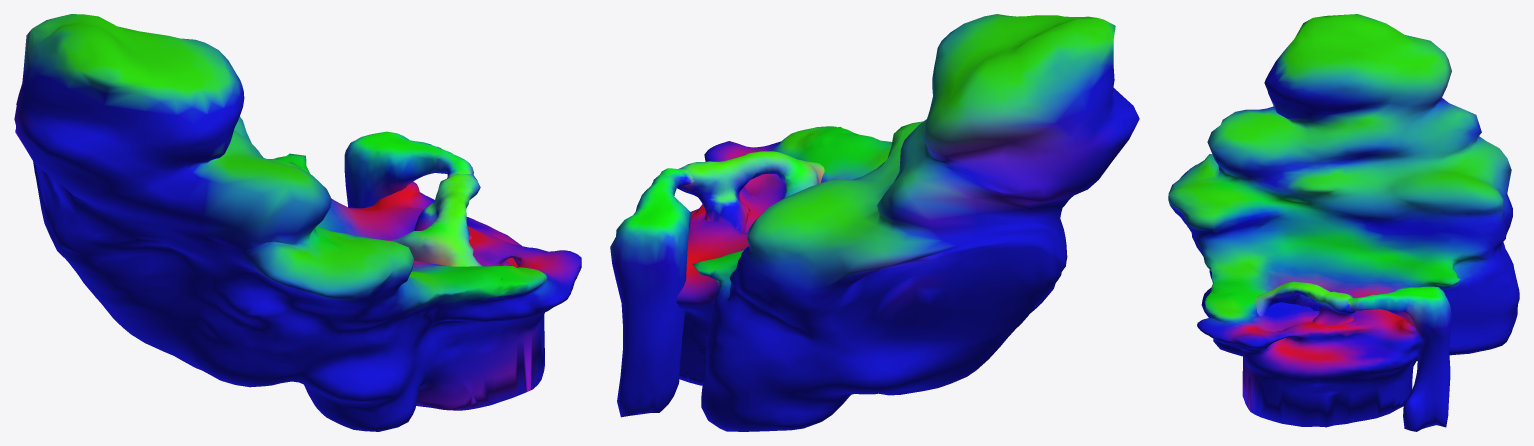
3 views of the same model, side by side, from view 1: azimuth 30°, elevation 25°; view 2: azimuth 150°, elevation 25°; view 3: azimuth 270°, elevation 25° (orthographic). The views are drawn at different scales.
Visible parts, largest first — view 1: Cube, Cube.001, Cube.002; view 2: Cube, Cube.001, Cube.002; view 3: Cube, Cube.001, Cube.002.
Boxes of the visible parts, bbox=[...] form: Cube: bbox=[14, 14, 581, 431]; Cube.001: bbox=[344, 131, 473, 208]; Cube.002: bbox=[386, 174, 482, 266]; Cube: bbox=[676, 14, 1139, 431]; Cube.001: bbox=[610, 168, 694, 417]; Cube.002: bbox=[677, 151, 824, 232]; Cube: bbox=[1168, 14, 1519, 427]; Cube.001: bbox=[1348, 286, 1451, 431]; Cube.002: bbox=[1255, 281, 1355, 324].
Size of the model in its own units: 0.6417 by 0.5352 by 0.5873.
